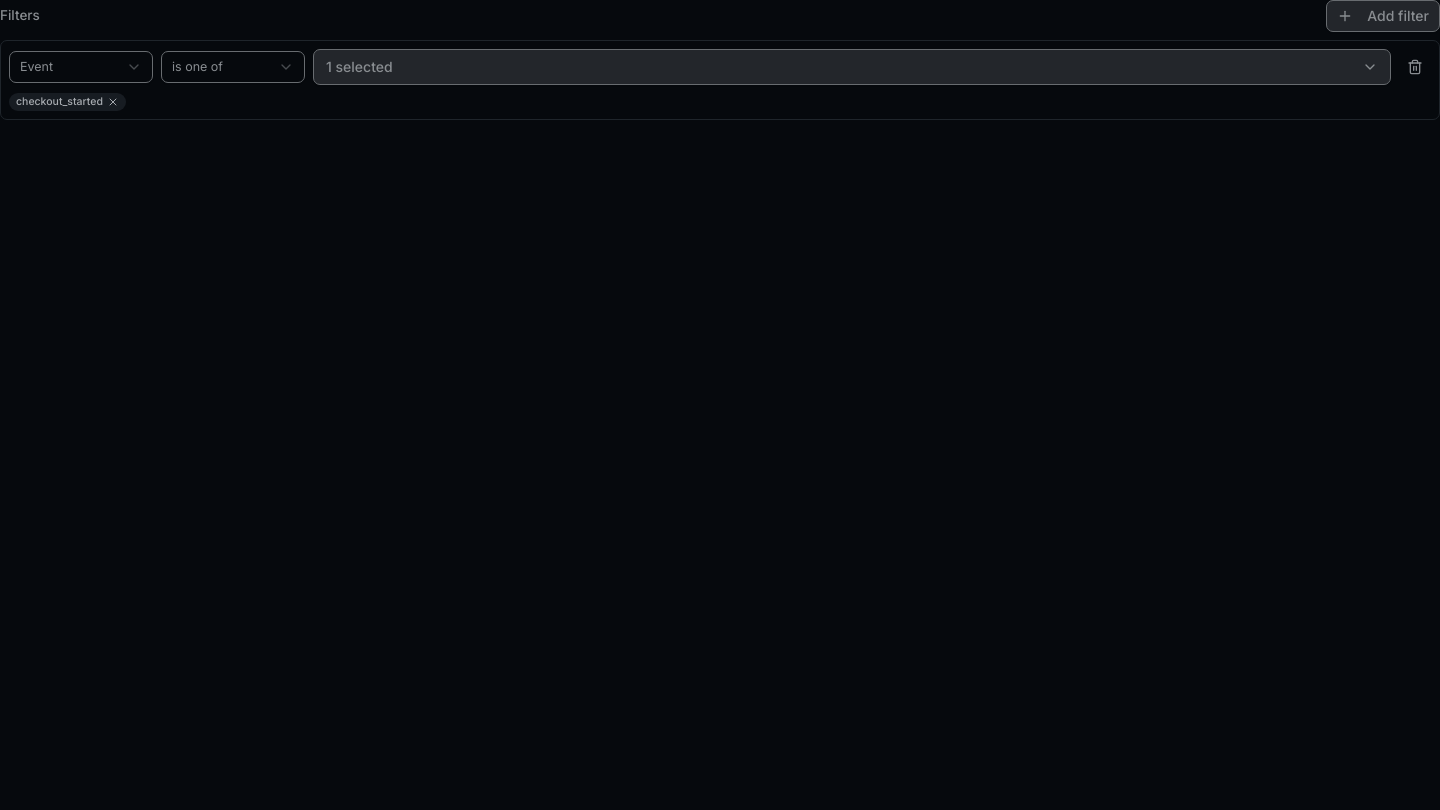
FilterEditor — event scope picker (tripl-jfm3.106) › re-queries the server as the operator types
Check: the text "checkout_started" is shown, box [16, 95, 103, 109]
Click the button "1 selected" at (359, 66), box [313, 49, 1391, 85]
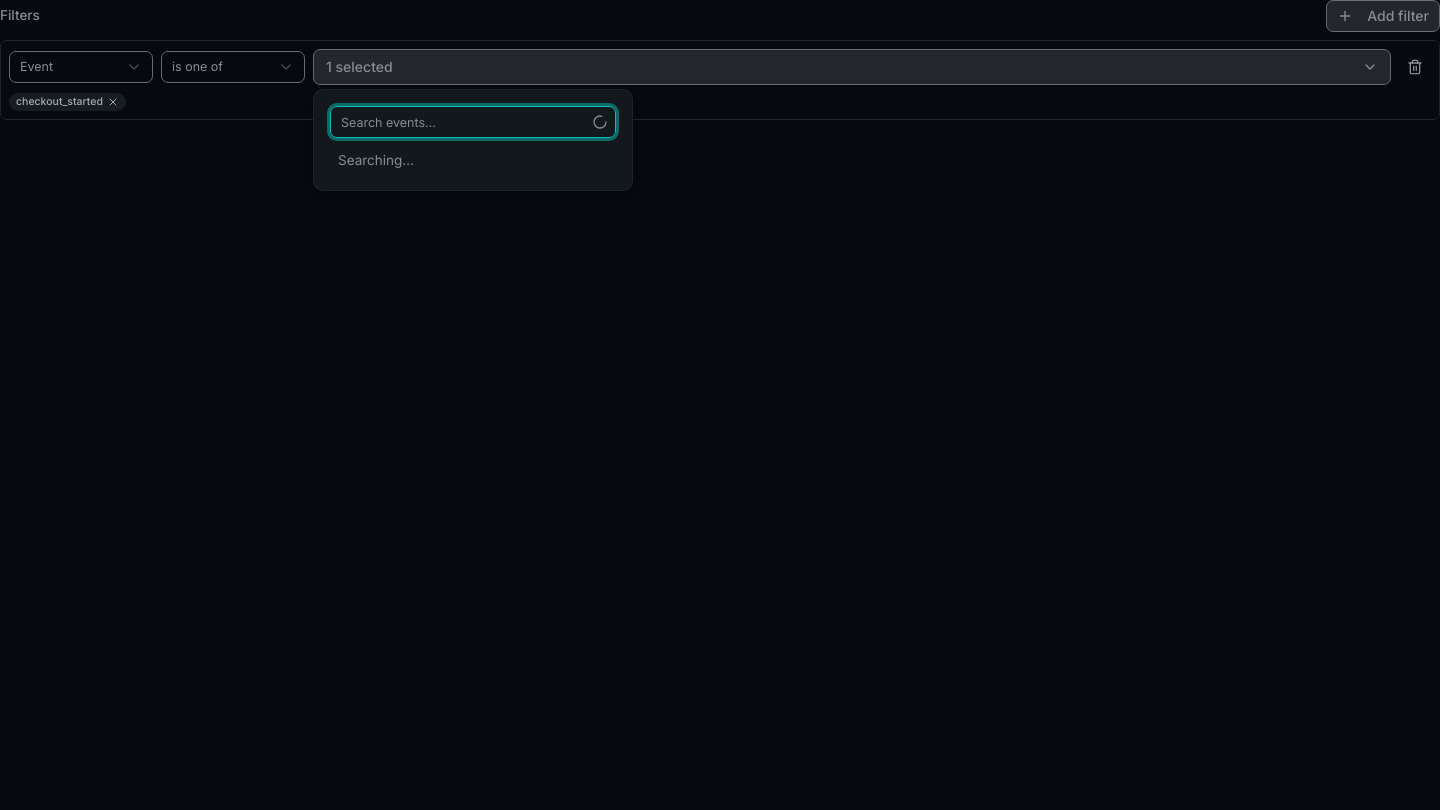
Type "completed" into the field named "Search values" at (473, 122), box [330, 106, 616, 138]
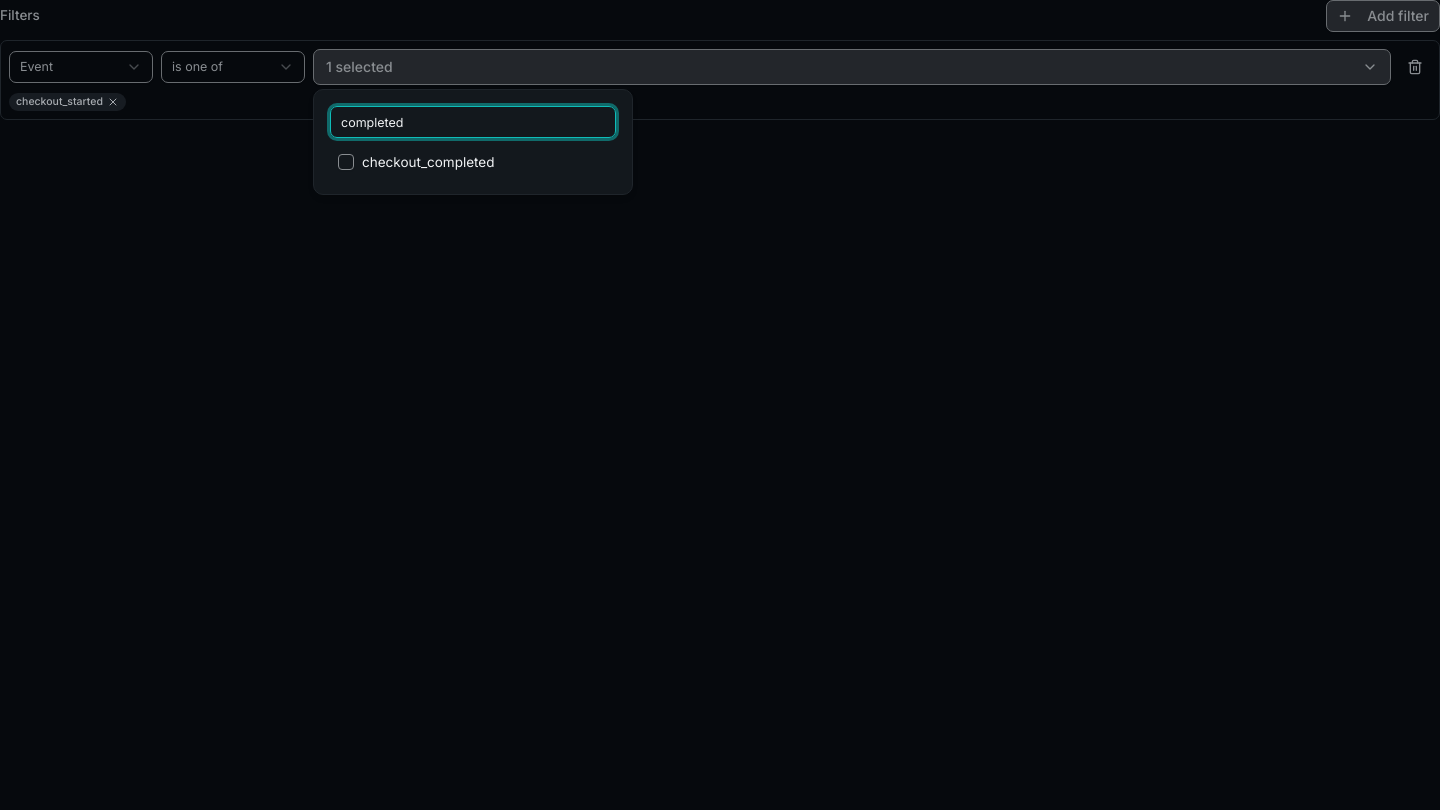
Check: the text "checkout_completed" is shown, box [362, 152, 494, 172]
